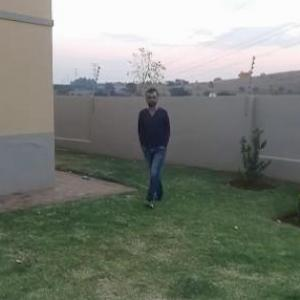follow: (131, 86, 171, 204)
